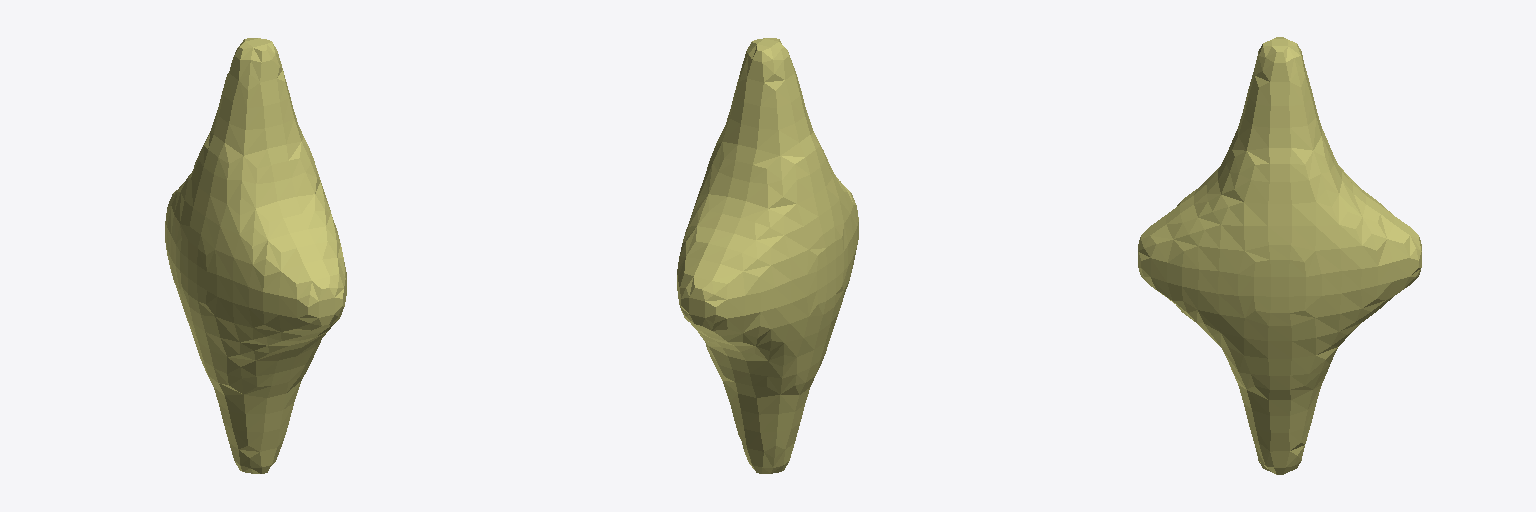
File: star.obj
3 renders of one model, left to right at view 1: azimuth 30°, elevation 25°; view 2: azimuth 150°, elevation 25°; view 3: azimuth 270°, elevation 25°, orthographic.
Parts seen in each view (by area): view 1: Cube.001; view 2: Cube.001; view 3: Cube.001.
Part boxes in pixels (left/top/right/bottom): Cube.001: left=165, top=38, right=346, bottom=473; Cube.001: left=677, top=38, right=858, bottom=473; Cube.001: left=1138, top=37, right=1421, bottom=474.
Size of the model in its own units: 0.4883 by 1.57 by 0.9421.